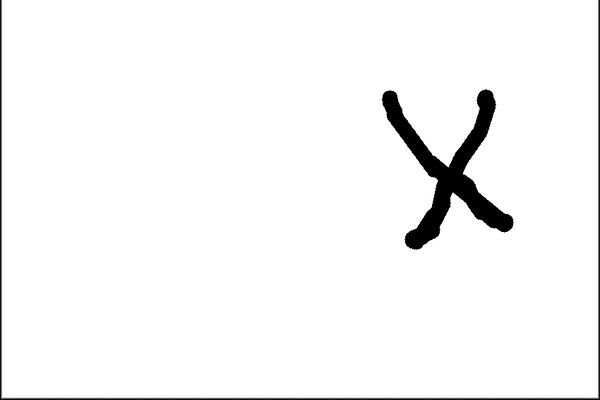X: (353, 76, 533, 257)
